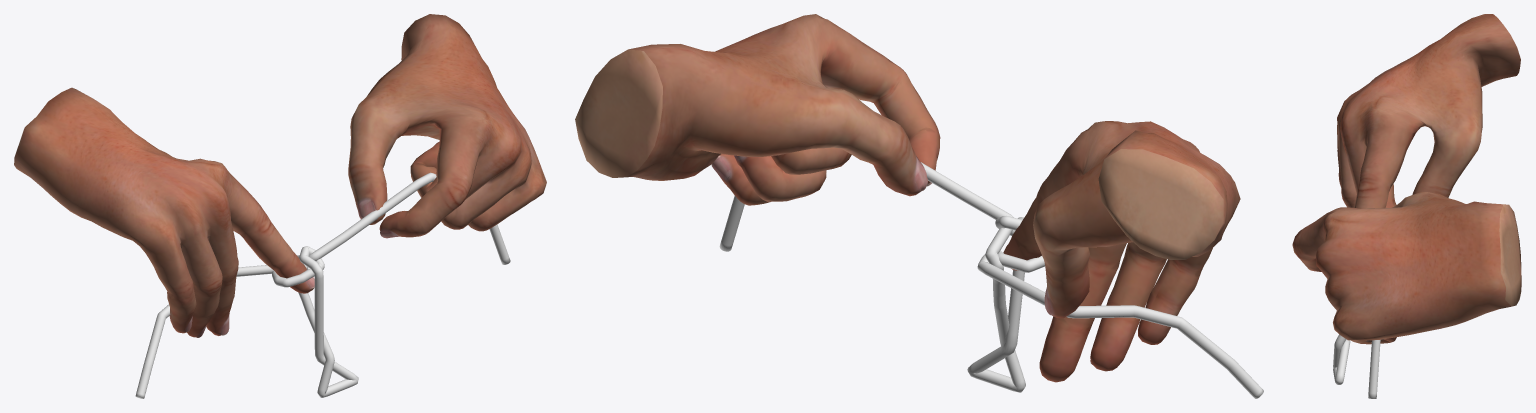
File: zfk_part2_assi_loop.fbx
3 views of the same model, side by side, from view 1: azimuth 30°, elevation 25°; view 2: azimuth 150°, elevation 25°; view 3: azimuth 270°, elevation 25° (orthographic). The views are drawn at different scales.
Visible parts, largest first — view 1: Hand_R, Hand_L, faden_R, faden_L; view 2: Hand_L, Hand_R, faden_R, faden_L; view 3: Hand_L, Hand_R, faden_L, faden_R.
Boxes of the visible parts, bbox=[...] form: Hand_R: bbox=[14, 87, 314, 337]; Hand_L: bbox=[348, 14, 546, 238]; faden_R: bbox=[135, 246, 358, 398]; faden_L: bbox=[297, 172, 510, 397]; Hand_L: bbox=[575, 14, 940, 205]; Hand_R: bbox=[1003, 121, 1240, 382]; faden_R: bbox=[967, 216, 1263, 398]; faden_L: bbox=[719, 162, 1025, 392]; Hand_L: bbox=[1292, 191, 1521, 344]; Hand_R: bbox=[1337, 14, 1520, 208]; faden_L: bbox=[1333, 334, 1380, 398]; faden_R: bbox=[1333, 339, 1350, 384].
Bounding box in the file's own units: 35.71 × 20.56 × 15.63.
